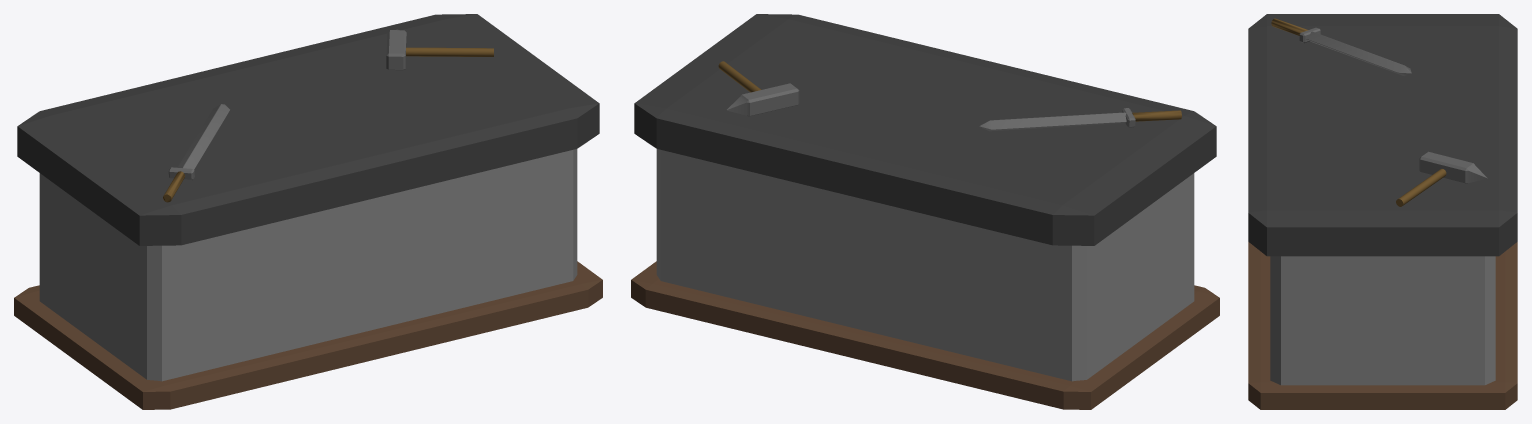
File: workbench.glb
3 renders of one model, left to right at view 1: azimuth 30°, elevation 25°; view 2: azimuth 150°, elevation 25°; view 3: azimuth 270°, elevation 25°, orthographic. The views are drawn at different scales.
Parts seen in each view (by area): view 1: WorkbenchTop, WorkbenchMiddle, WorkbenchBase, Sword, Hammer; view 2: WorkbenchTop, WorkbenchMiddle, WorkbenchBase, Sword, Hammer; view 3: WorkbenchTop, WorkbenchMiddle, WorkbenchBase, Hammer, Sword.
Boxes of the visible parts, x1=… form: WorkbenchTop: x1=17, y1=14, x2=599, y2=245; WorkbenchMiddle: x1=39, y1=149, x2=577, y2=381; WorkbenchBase: x1=14, y1=261, x2=602, y2=409; Sword: x1=163, y1=104, x2=229, y2=202; Hammer: x1=386, y1=29, x2=493, y2=70; WorkbenchTop: x1=634, y1=14, x2=1216, y2=245; WorkbenchMiddle: x1=656, y1=149, x2=1194, y2=381; WorkbenchBase: x1=631, y1=261, x2=1219, y2=409; Sword: x1=979, y1=108, x2=1181, y2=131; Hammer: x1=718, y1=61, x2=799, y2=116; WorkbenchTop: x1=1248, y1=14, x2=1517, y2=256; WorkbenchMiddle: x1=1270, y1=256, x2=1495, y2=385; WorkbenchBase: x1=1248, y1=242, x2=1517, y2=409; Hammer: x1=1396, y1=151, x2=1487, y2=206; Sword: x1=1271, y1=18, x2=1411, y2=75.
Size of the model in its own units: 2 by 0.8889 by 1.07.
